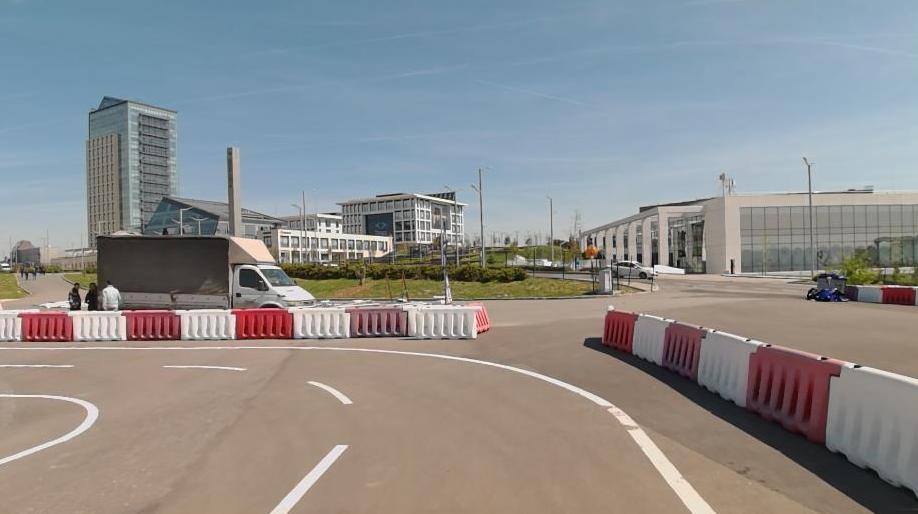nesne: (3, 344, 719, 514), (0, 345, 715, 513), (0, 346, 714, 514), (0, 360, 360, 512), (96, 232, 318, 309), (825, 361, 916, 495), (747, 342, 842, 445), (0, 393, 98, 457), (270, 443, 346, 512), (696, 329, 759, 406), (659, 318, 705, 379), (407, 305, 477, 338), (632, 311, 669, 363), (352, 304, 406, 338), (234, 308, 294, 338), (181, 308, 237, 340), (294, 305, 351, 336), (18, 310, 75, 340), (126, 309, 178, 341), (73, 309, 126, 340), (602, 307, 635, 352), (306, 379, 352, 404), (881, 284, 914, 305), (100, 277, 122, 308), (2, 308, 21, 339), (855, 285, 882, 303), (84, 282, 97, 309), (165, 365, 245, 369), (69, 281, 80, 307), (1, 363, 72, 366)
